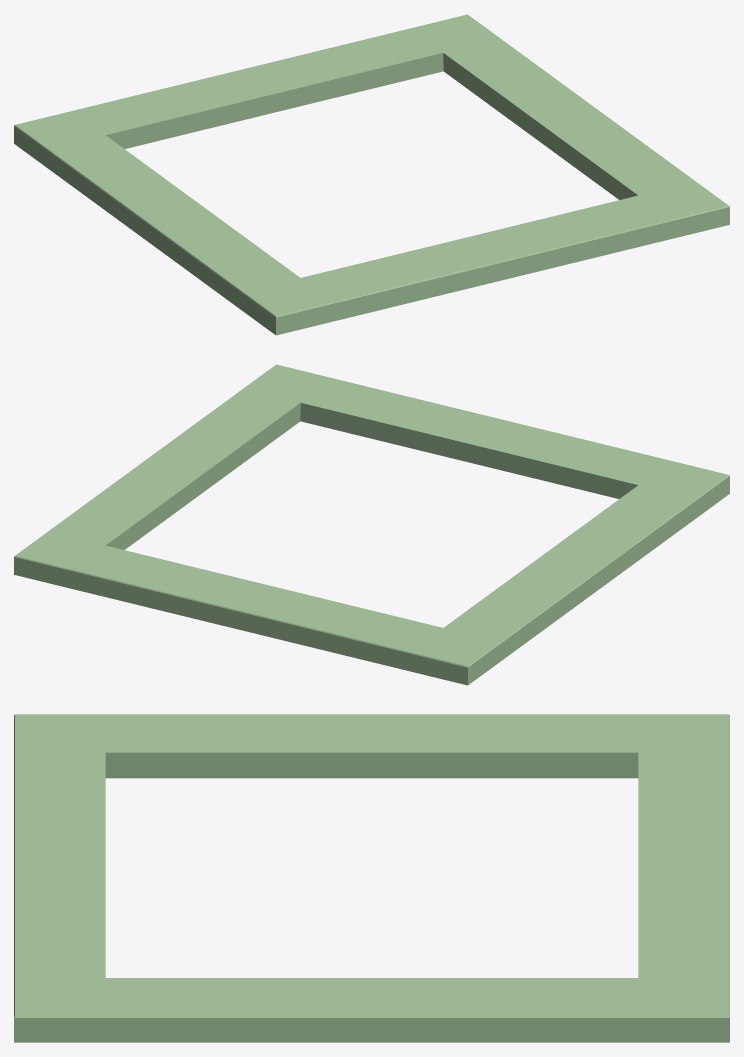
The model's file is Move_Game_Hole_01.fbx.
3 views of the same model, one above another, from view 1: azimuth 30°, elevation 25°; view 2: azimuth 150°, elevation 25°; view 3: azimuth 270°, elevation 25° (orthographic). The views are drawn at different scales.
Parts seen in each view (by area): view 1: Move_Game_Hole_01; view 2: Move_Game_Hole_01; view 3: Move_Game_Hole_01.
Boxes of the visible parts, box(x1,y1,x2,y2) form: Move_Game_Hole_01: box(14, 14, 729, 335); Move_Game_Hole_01: box(14, 364, 729, 685); Move_Game_Hole_01: box(14, 714, 729, 1042).
Size of the model in its own units: 17.29 by 0.6882 by 17.29.
